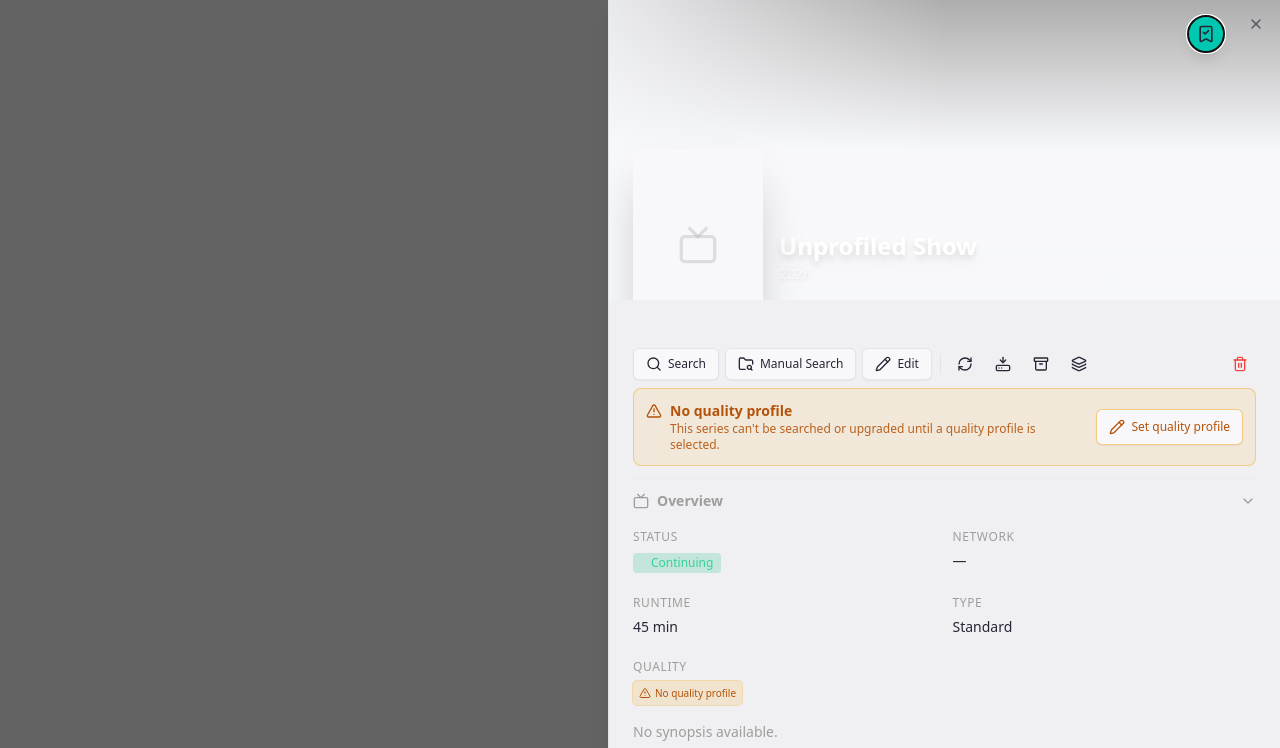
detail sheets › lets the user fix a series without a profile via the editor
This screenshot has width=1280, height=748.
Expected: the message shows "No quality profile", 670,401 -> 792,420
Click the button "Set quality profile": (1170, 427) 1096,409 -> 1243,445
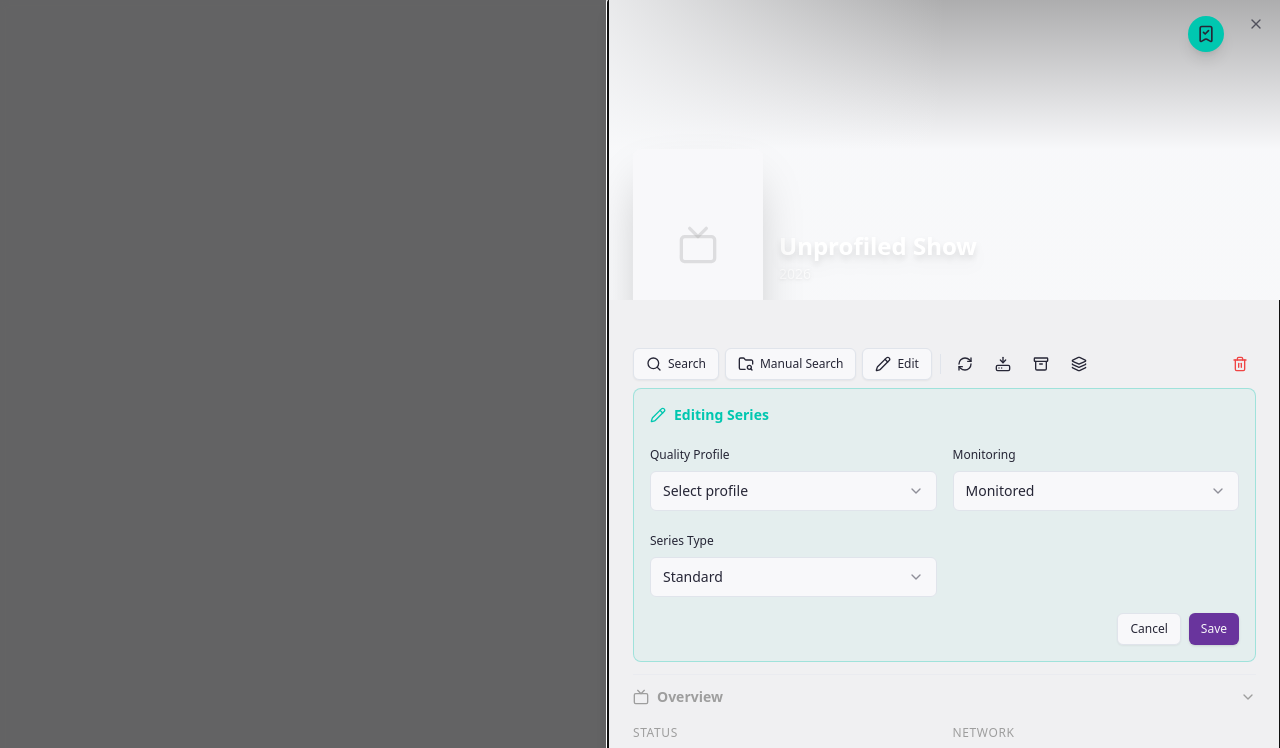
Now the text "Editing Series" is shown, box 650,405 -> 769,424
